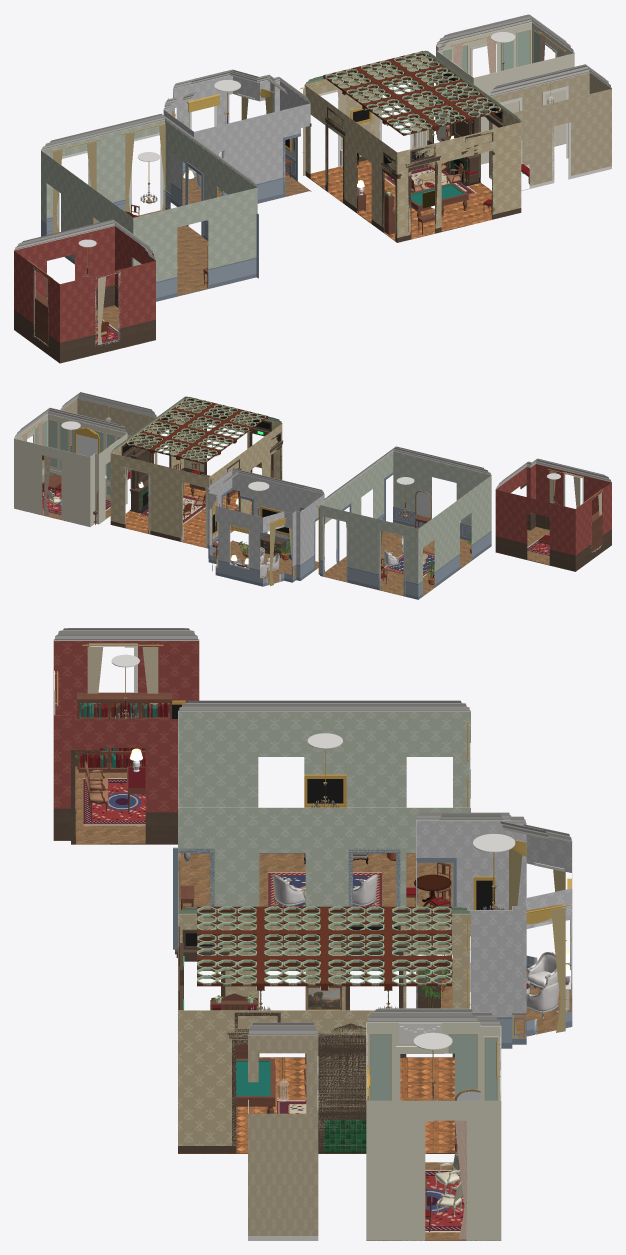
The model's file is piece_salons.glb.
3 views of the same model, one above another, from view 1: azimuth 30°, elevation 25°; view 2: azimuth 150°, elevation 25°; view 3: azimuth 270°, elevation 25° (orthographic). The views are drawn at different scales.
Parts seen in each view (by area): view 1: salon_ouest_revetements, billard_revetements, piece_no_revetements, salon_revetements, degagement_est_revetements, salon_vert_revetements, billard_parquet, billard_poutres, salon_ouest_parquet, salon_ouest_rideaux, salon_ouest_corniche, billard_cheminee (+13 smaller); view 2: salon_ouest_revetements, billard_revetements, piece_no_revetements, salon_vert_revetements, salon_revetements, salon_ouest_parquet, billard_poutres, billard_parquet, degagement_est_revetements, billard_cheminee, salon_ouest_corniche, salon_parquet (+17 smaller); view 3: salon_ouest_revetements, salon_vert_revetements, billard_revetements, salon_revetements, piece_no_revetements, degagement_est_revetements, billard_cheminee, billard_parquet, billard_poutres, salon_ouest_parquet, piece_no_bibliotheque, salon_ouest_corniche (+18 smaller).
Boxes of the visible parts, x1,y1,x2,y2 form: salon_ouest_revetements: (41,120,258,301); billard_revetements: (304,54,521,242); piece_no_revetements: (14,226,155,363); salon_revetements: (163,75,311,206); degagement_est_revetements: (489,72,611,190); salon_vert_revetements: (436,22,574,164); billard_parquet: (310,160,520,242); billard_poutres: (342,58,484,131); salon_ouest_parquet: (65,210,255,301); salon_ouest_rideaux: (50,123,165,233); salon_ouest_corniche: (41,113,257,187); billard_cheminee: (441,89,480,186); salon_ouest_revetements: (320,451,491,599); billard_revetements: (110,399,283,548); piece_no_revetements: (495,464,611,571); salon_vert_revetements: (14,414,127,526); salon_revetements: (208,472,324,586); salon_ouest_parquet: (321,522,489,599); billard_poutres: (140,402,252,460); billard_parquet: (112,482,251,547); degagement_est_revetements: (62,398,157,488); billard_cheminee: (129,438,156,513); salon_ouest_corniche: (320,446,491,504); salon_parquet: (209,541,318,586); salon_ouest_revetements: (173,712,470,949); salon_vert_revetements: (366,1022,501,1240); billard_revetements: (175,914,470,1153); salon_revetements: (416,820,572,1048); piece_no_revetements: (53,641,199,844); degagement_est_revetements: (248,1035,318,1240); billard_cheminee: (317,1023,366,1153); billard_parquet: (178,1057,454,1153); billard_poutres: (197,906,451,990); salon_ouest_parquet: (178,853,452,910); piece_no_bibliotheque: (77,692,172,772); salon_ouest_corniche: (178,700,470,711).
Size of the model in its own units: 31.6 by 5.01 by 14.6.
Materials: 74 (41 with a texture image).
